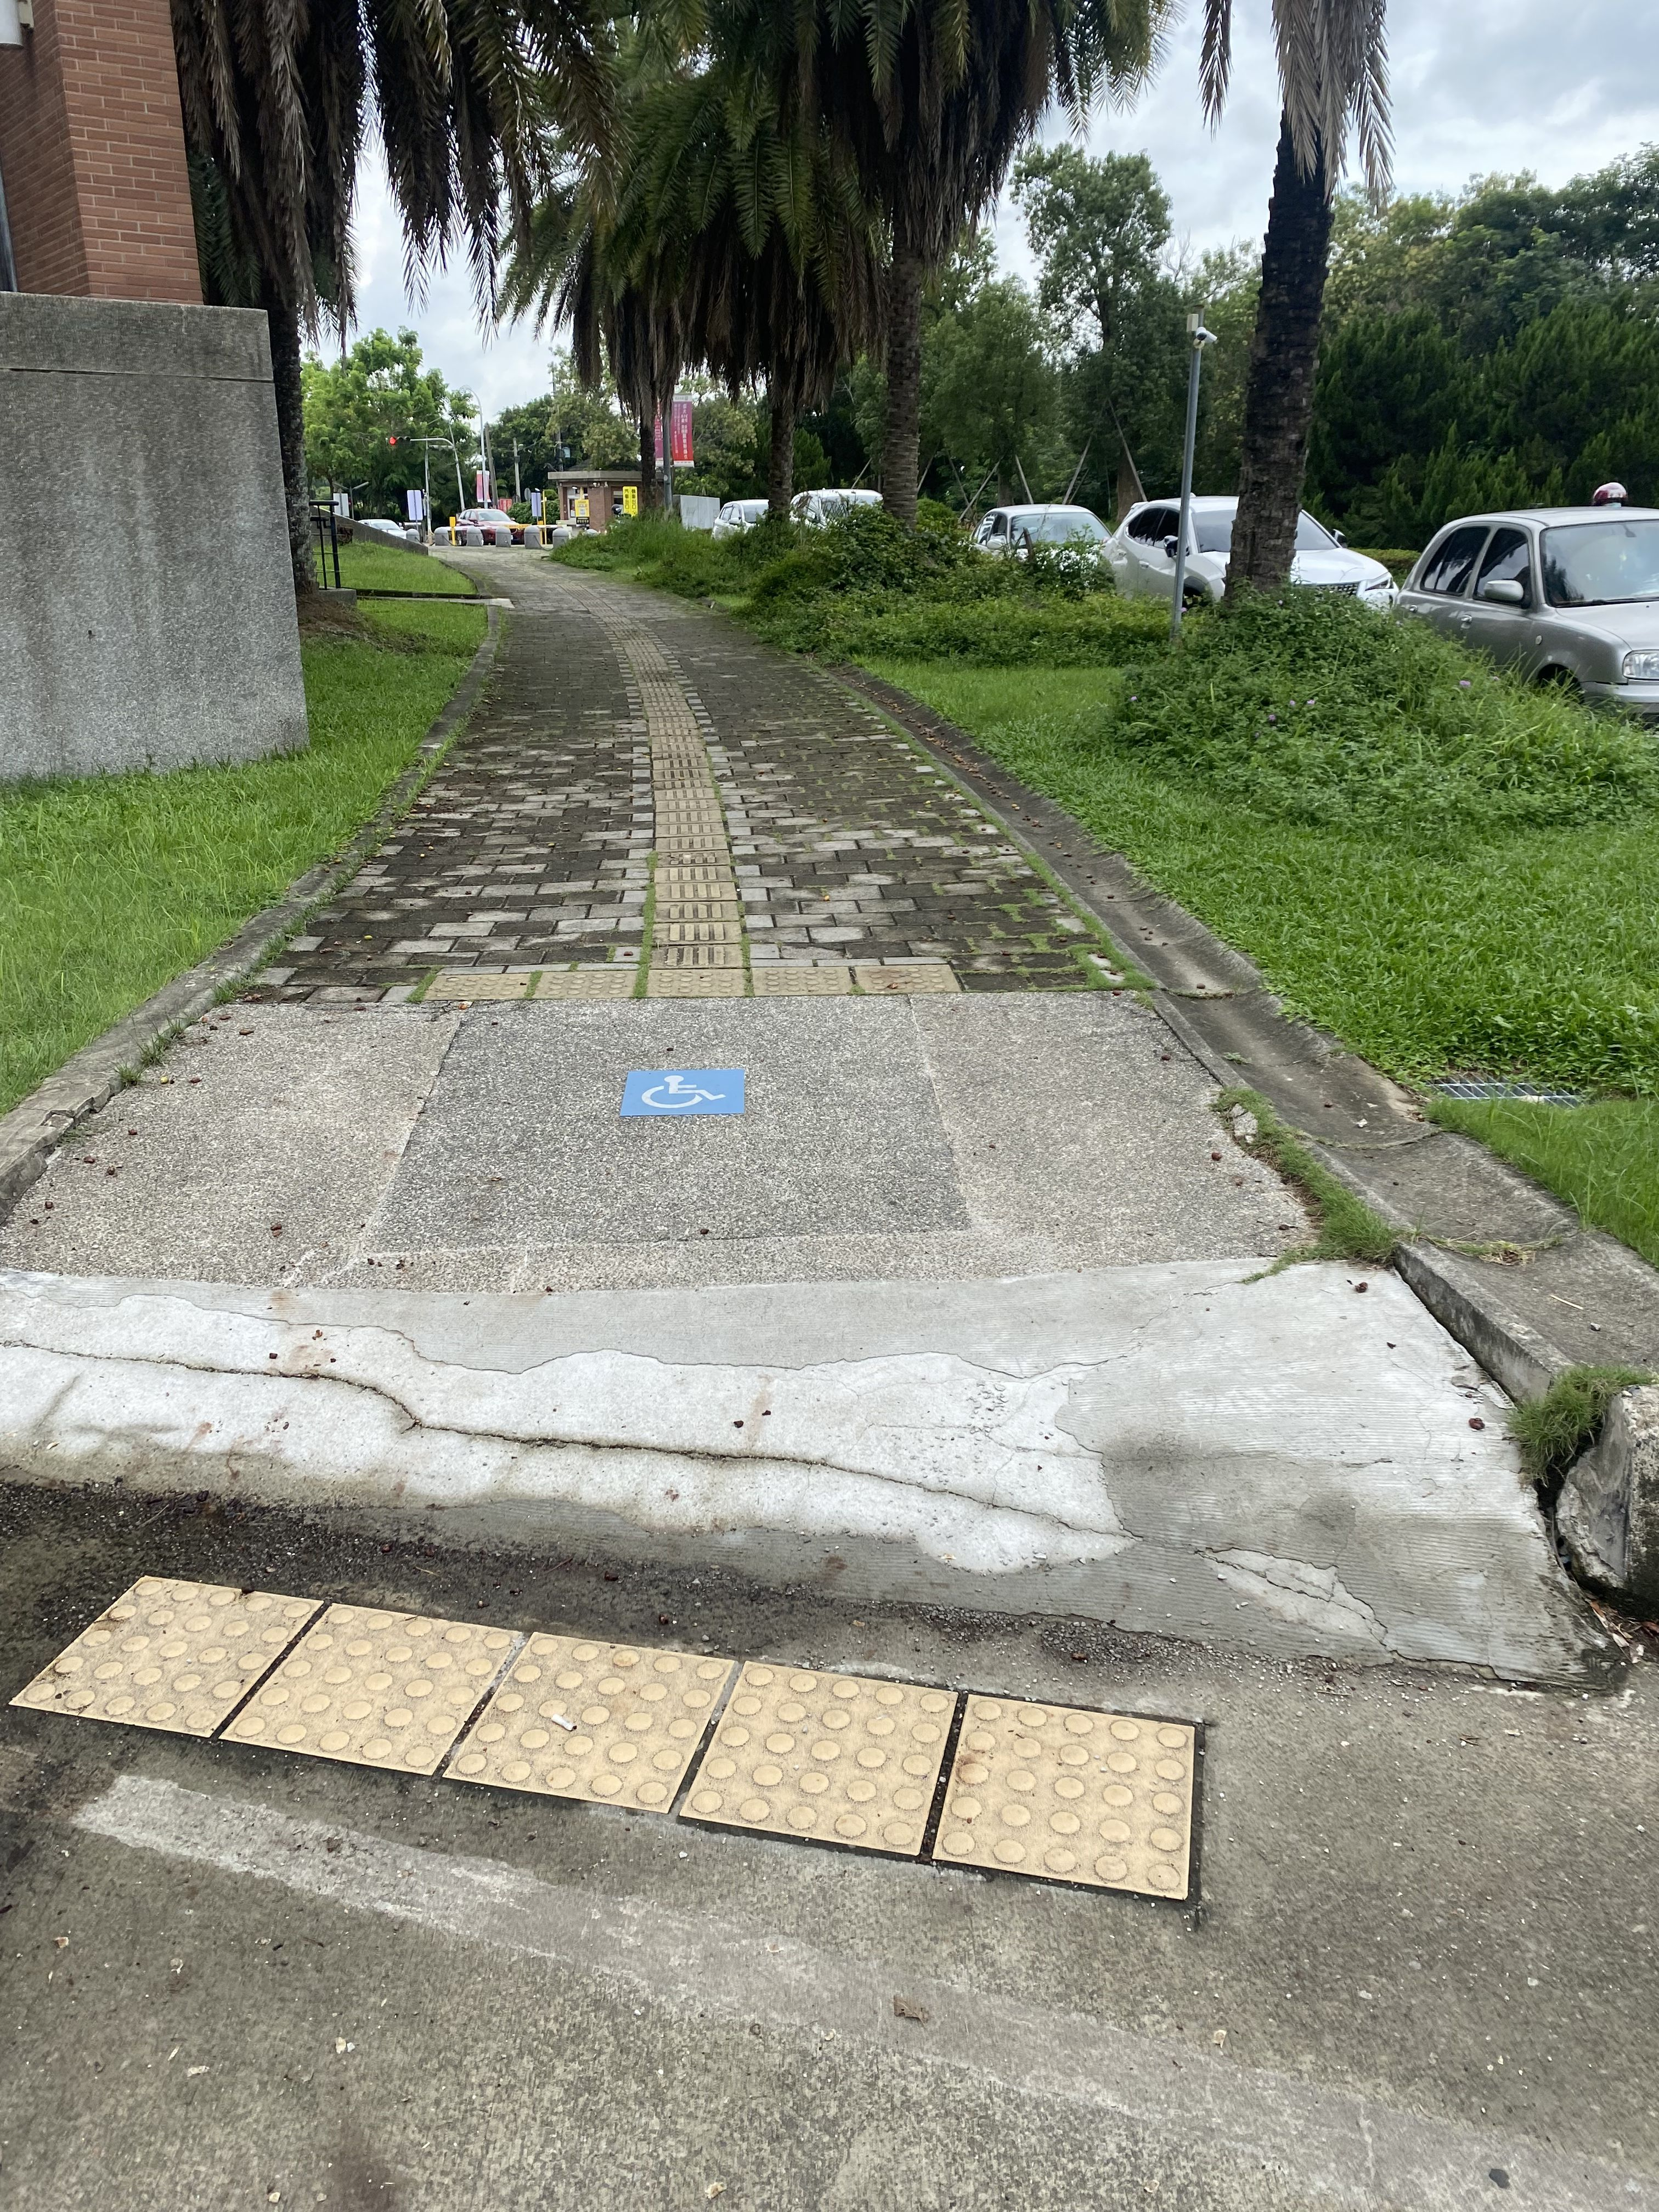sidewalk: (3, 479, 1643, 2019)
